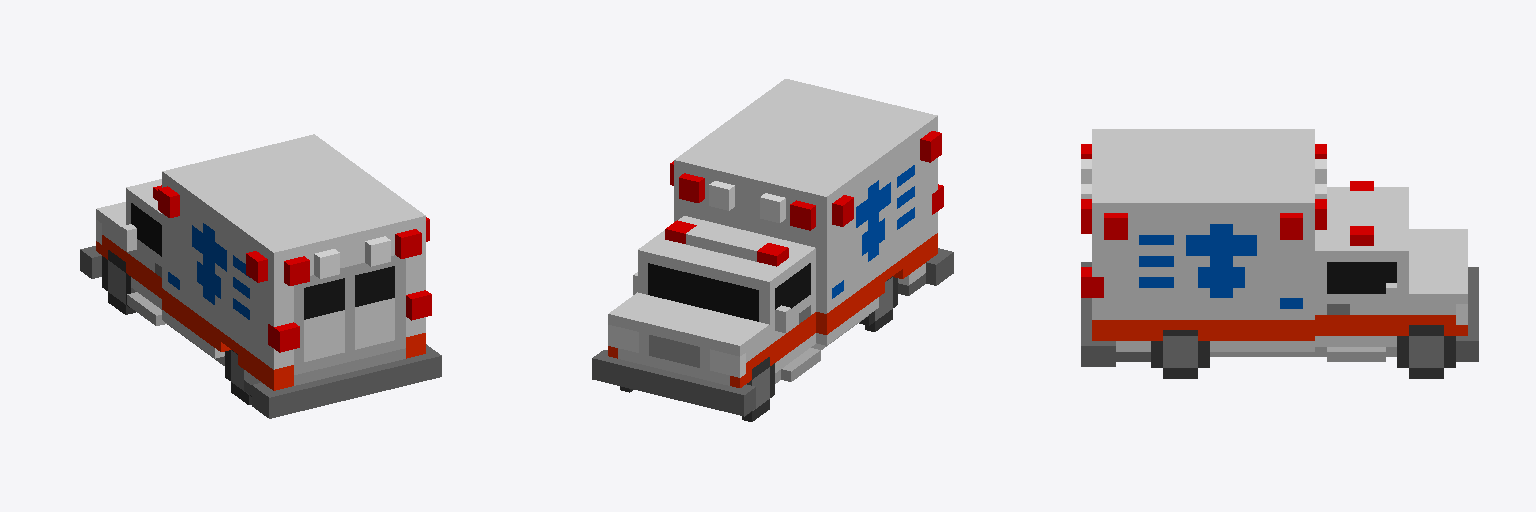
3 renders of one model, left to right at view 1: azimuth 30°, elevation 25°; view 2: azimuth 150°, elevation 25°; view 3: azimuth 270°, elevation 25°, orthographic.
Bounding box in the file's own units: 17 × 17 × 34.
Materials: 1 (1 with a texture image).